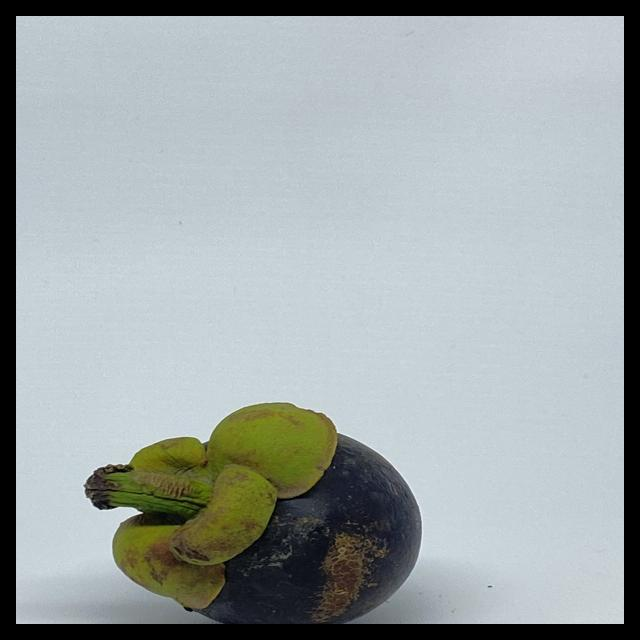mangosteen: (73, 370, 449, 624)
